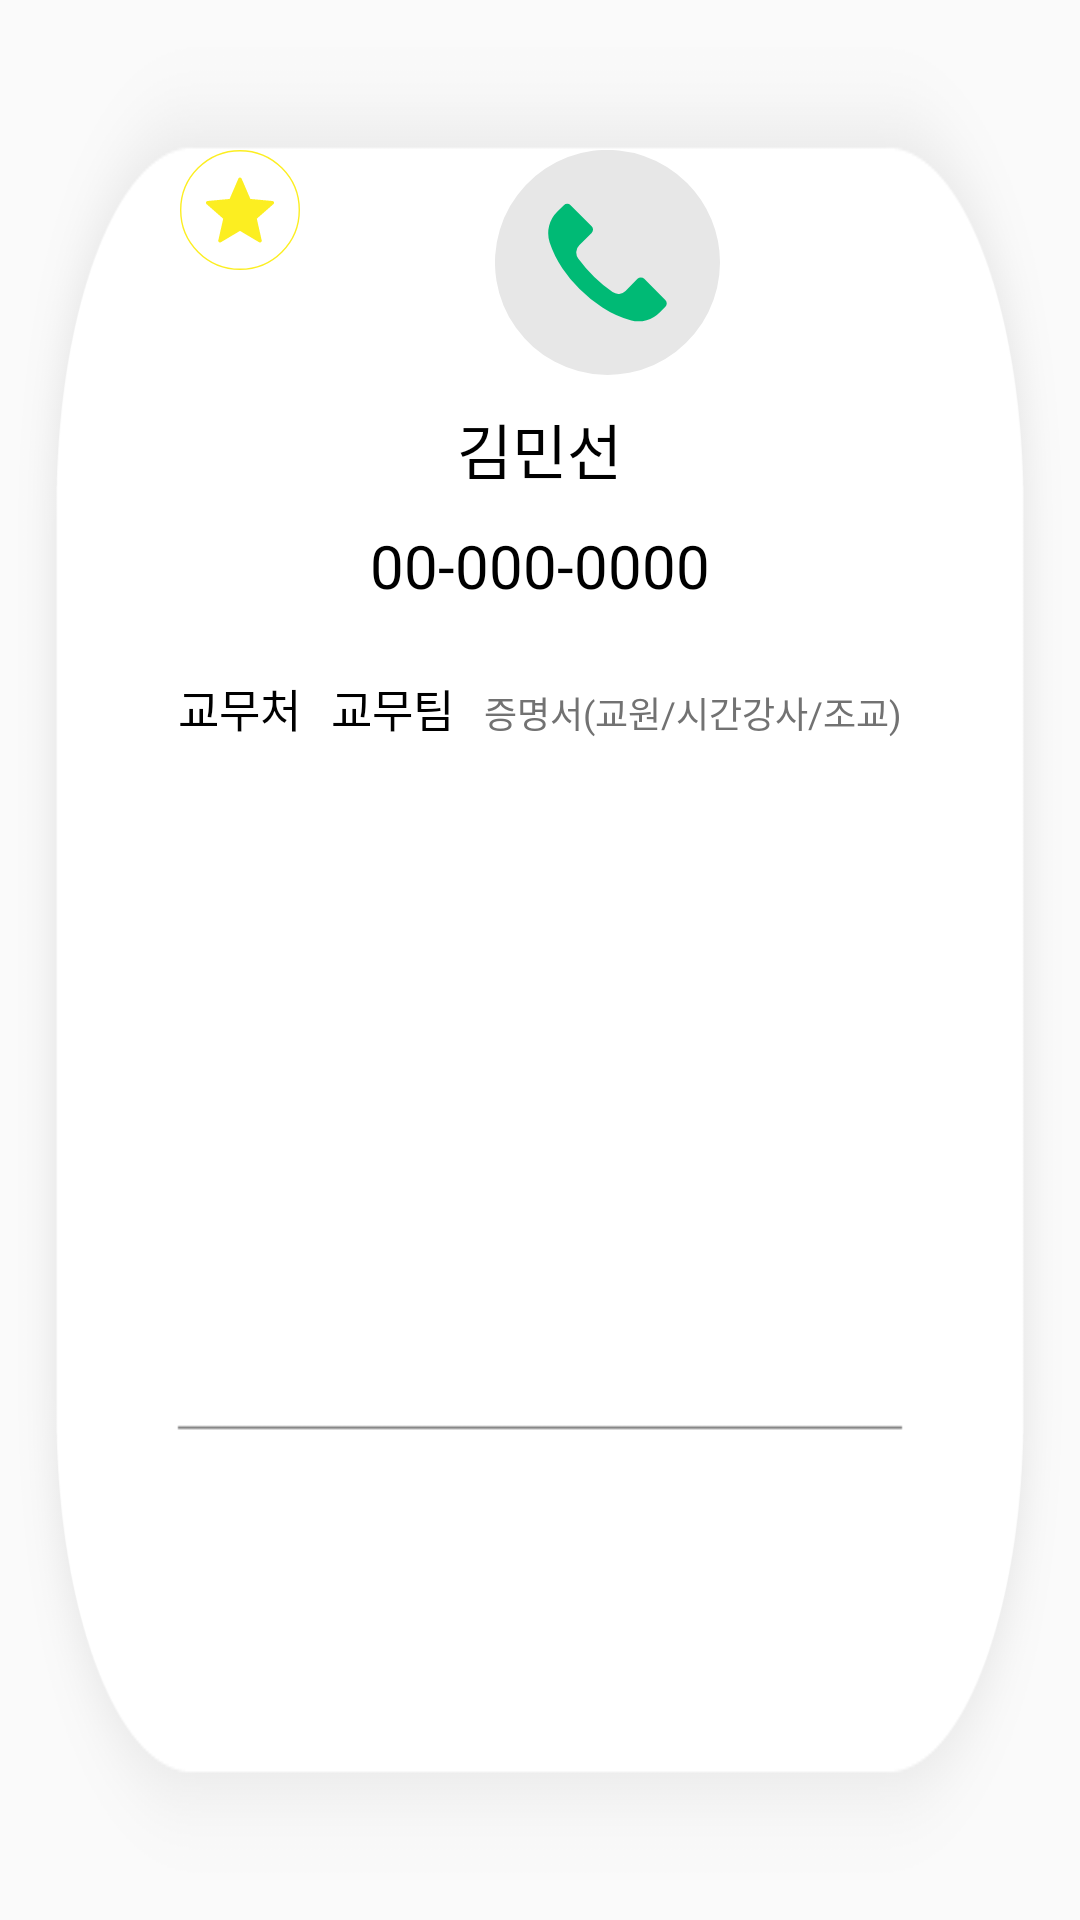

Icon bounding boxes for this 1080px×1920px phone screenshot, format (x1, y1, x2, y2):
bookmark: (180, 150, 300, 270)
callbutton: (495, 150, 720, 375)
